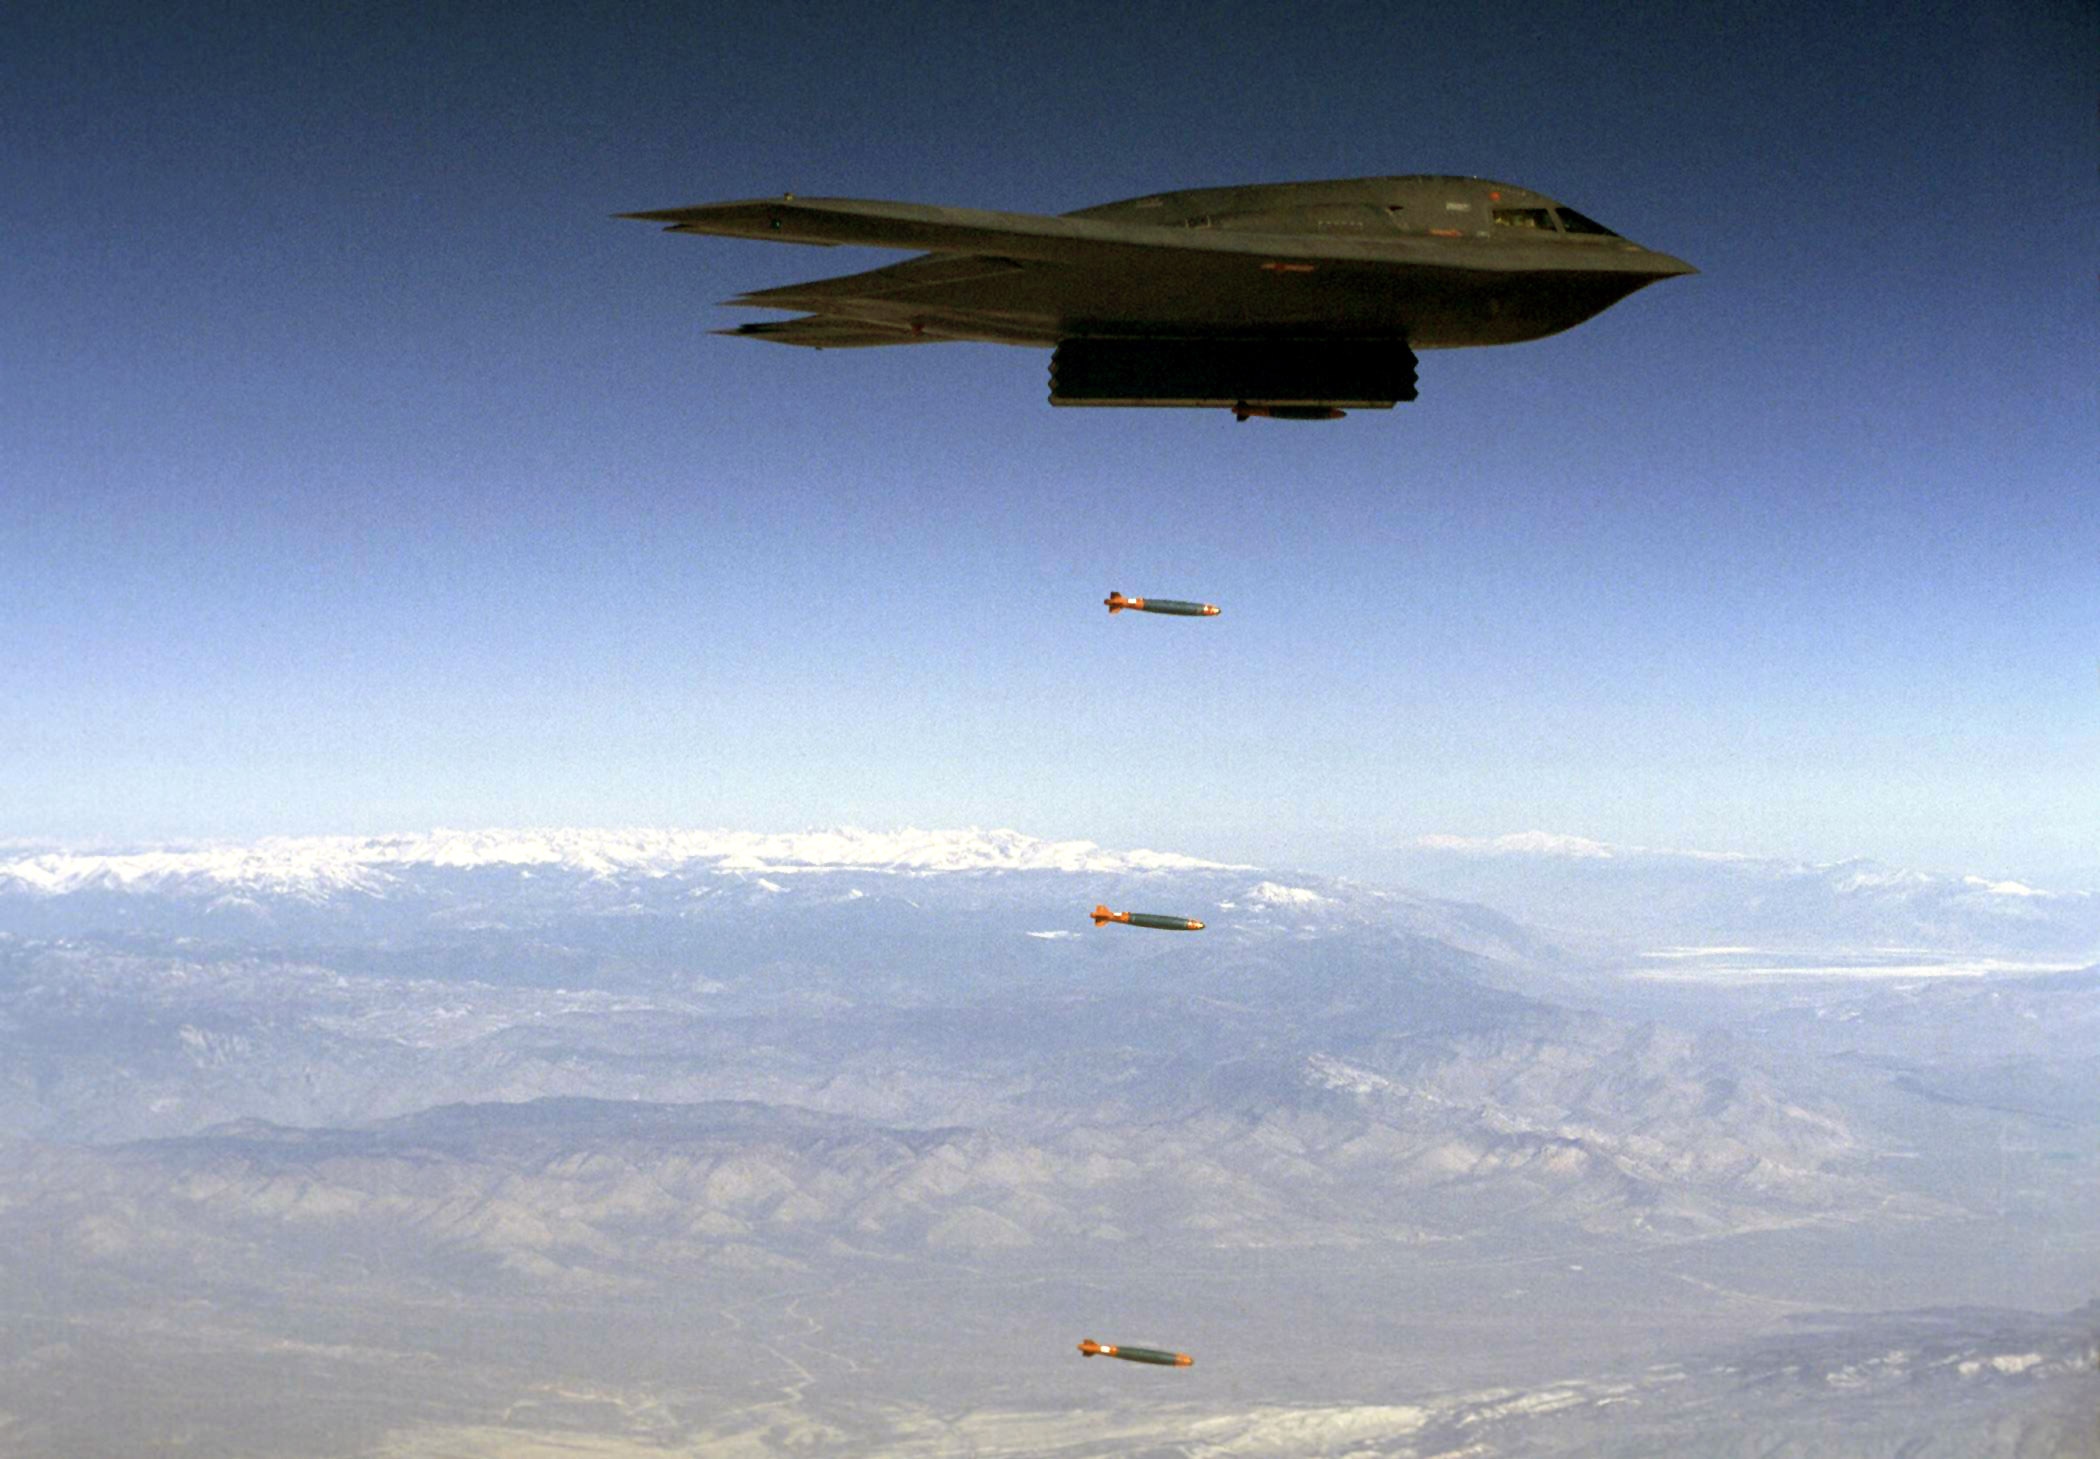B2: (605, 172, 1703, 410)
